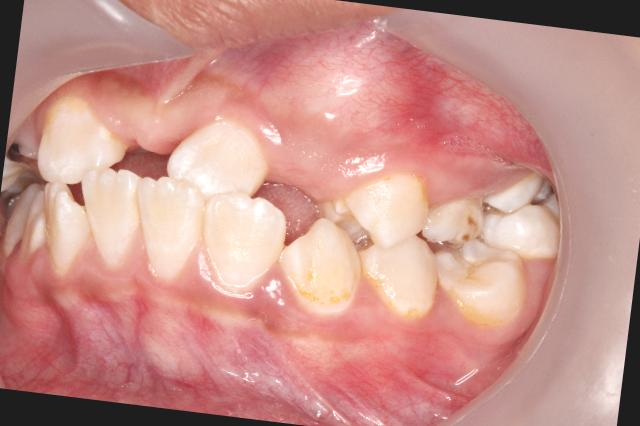molar class II 1/2: (480, 154, 574, 264)
